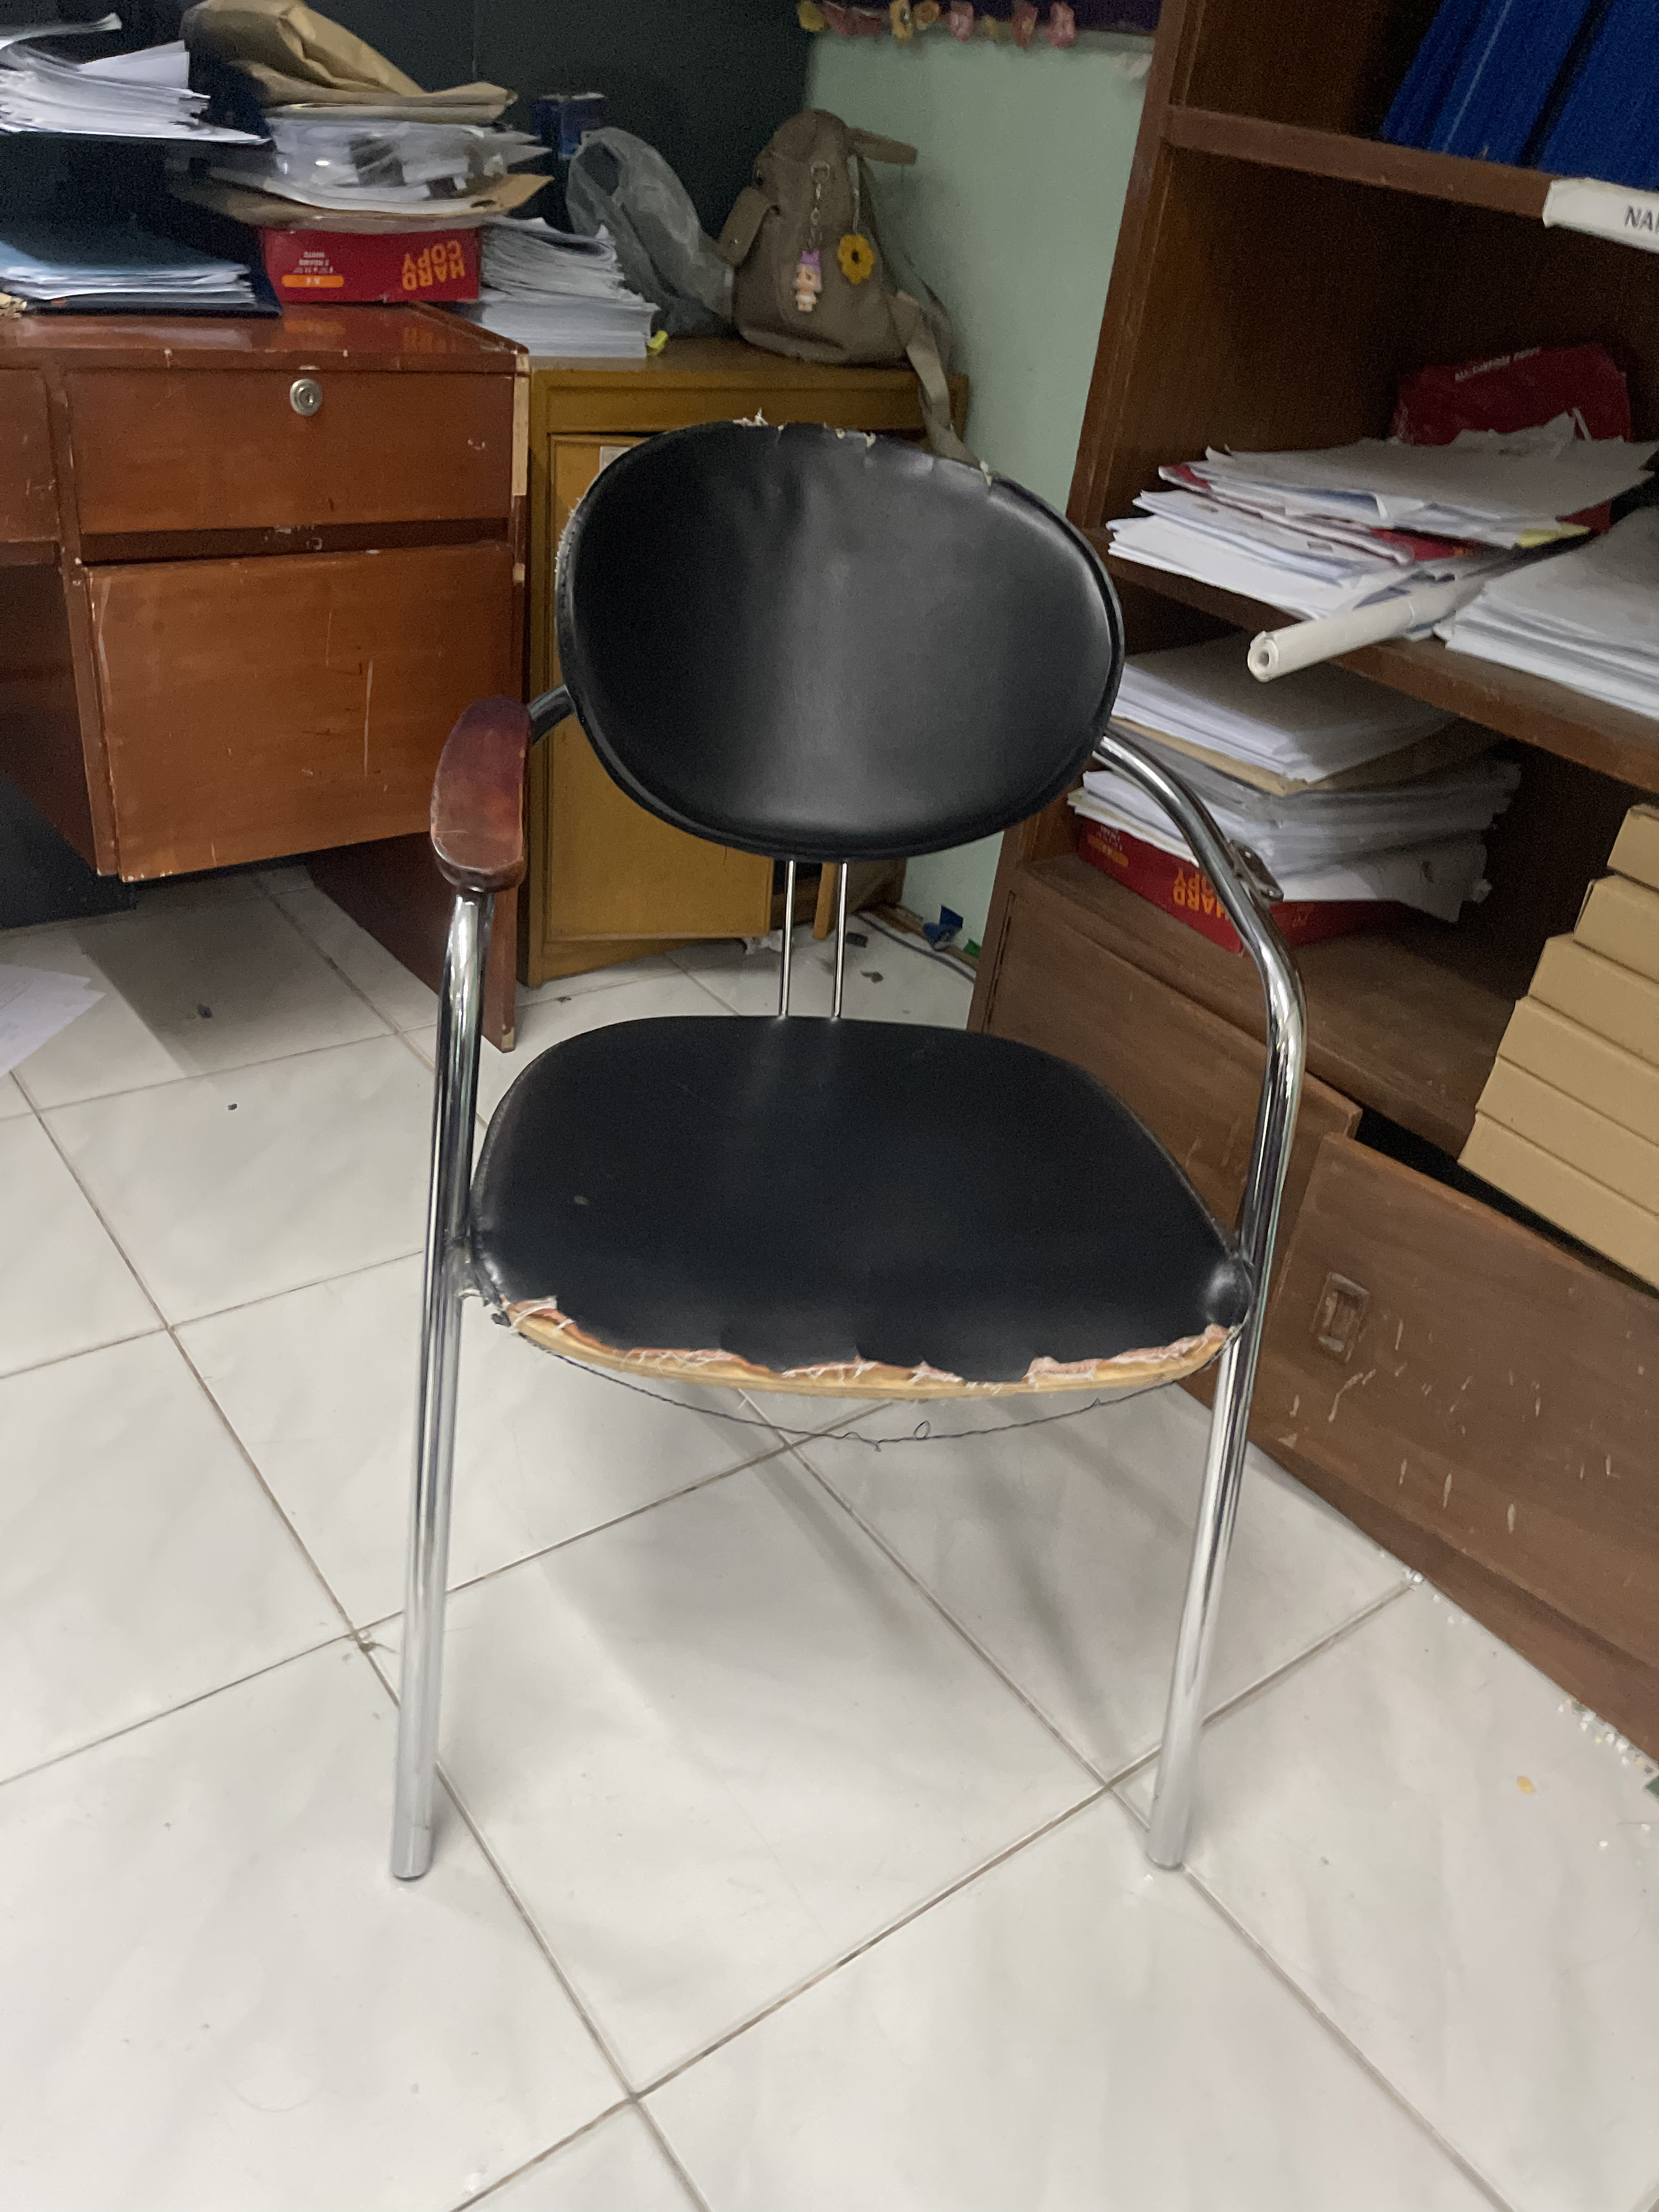chair1: (383, 420, 1316, 1893)
